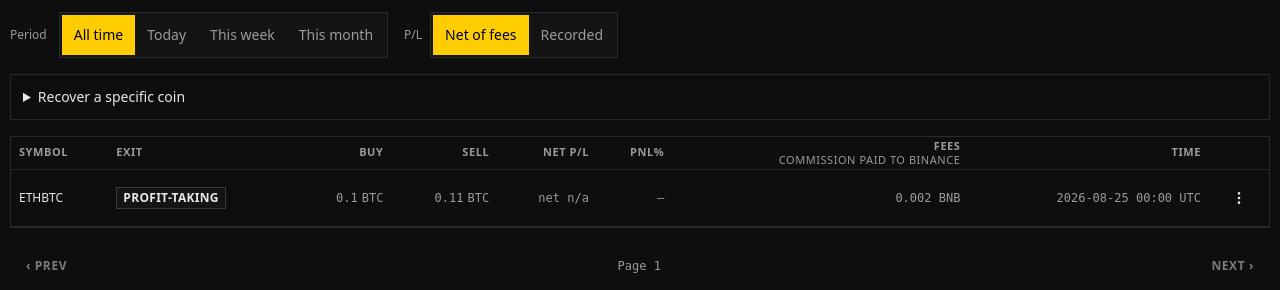
Scenario: <TradeArchivePanel> recovery nudge › shows incomplete Net P/L as unavailable while retaining raw fees and Recorded P/L
Expected: the picture with test id "archive-pnl-unavailable-arch-incomplete-fee" reads "net n/a", [538,190,589,204]
Expected: the cell with test id "archive-fees-arch-incomplete-fee" reads "0.002 BNB", [672,169,968,226]
Click the tab with test id "pnl-basis-gross" at coordinates (572, 35), box [529,15,615,55]
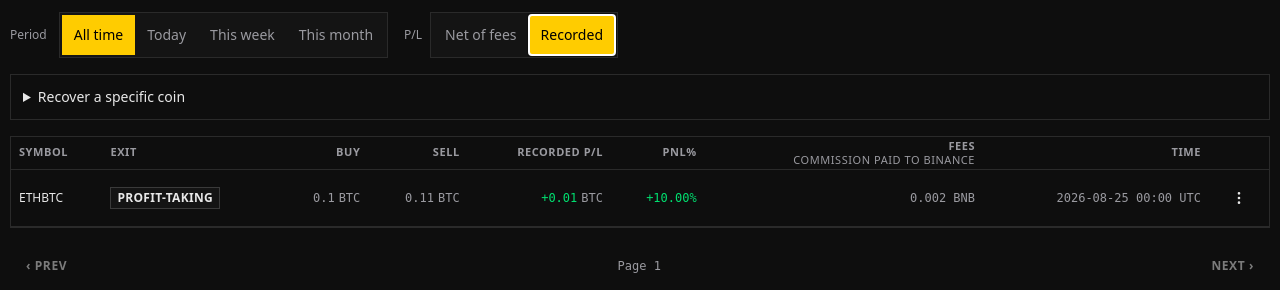
Result: the cell with test id "archive-profit-arch-incomplete-fee" shows "0.01" at [541,190,577,204]
Result: the column heading "Recorded P/L" is shown at [468,137,611,169]
